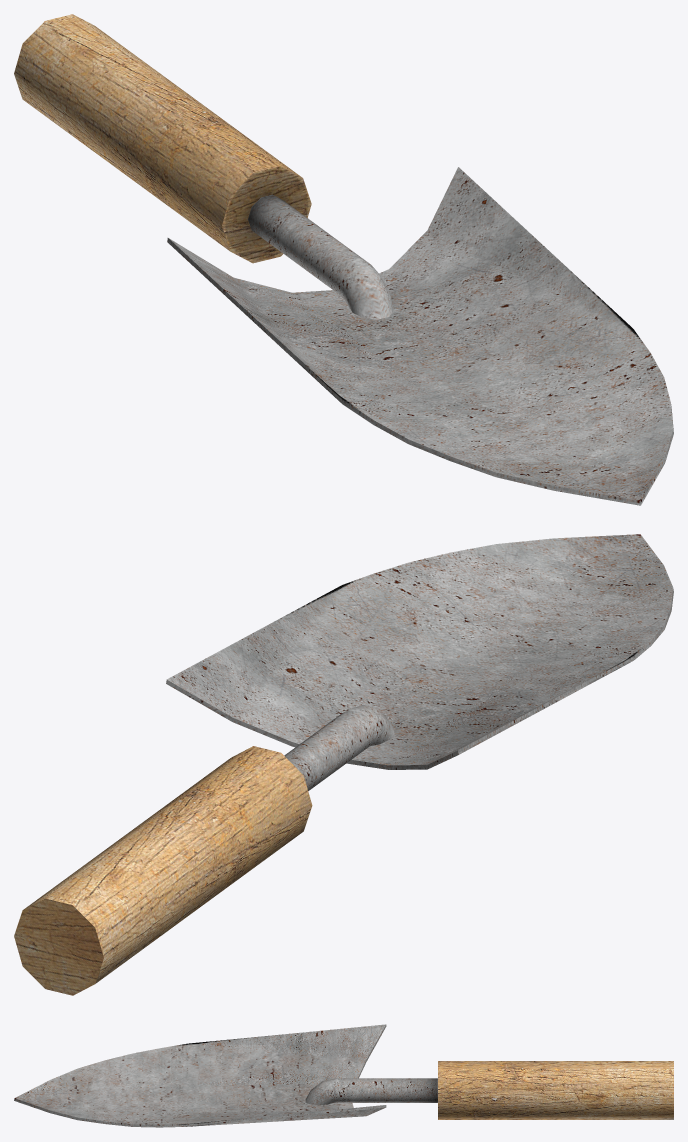
File: gardening_trowel_01.fbx
3 renders of one model, top to bottom at view 1: azimuth 30°, elevation 25°; view 2: azimuth 150°, elevation 25°; view 3: azimuth 270°, elevation 25°, orthographic. The views are drawn at different scales.
Visible parts, largest first — view 1: gardening trowel 01; view 2: gardening trowel 01; view 3: gardening trowel 01.
Part boxes in pixels (bbox=[...]): gardening trowel 01: bbox=[14, 14, 673, 505]; gardening trowel 01: bbox=[14, 534, 673, 995]; gardening trowel 01: bbox=[14, 1024, 673, 1127].
Size of the model in its own units: 19.77 by 5.9 by 68.26.
